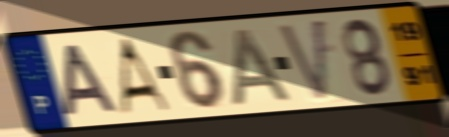6: (167, 28, 228, 112)
8: (341, 15, 393, 99)
A: (230, 26, 296, 108), (61, 42, 121, 119), (116, 35, 173, 115)
V: (275, 15, 330, 106)
